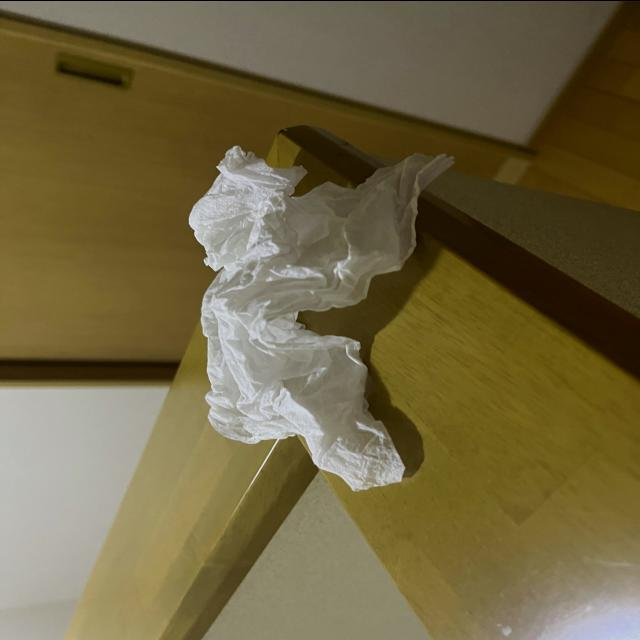Paper: (156, 134, 460, 522)
